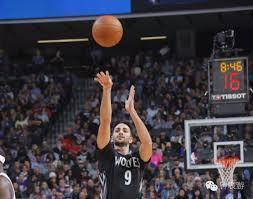ball: (92, 14, 123, 48)
human: (92, 70, 154, 199)
rim: (216, 154, 240, 190)
